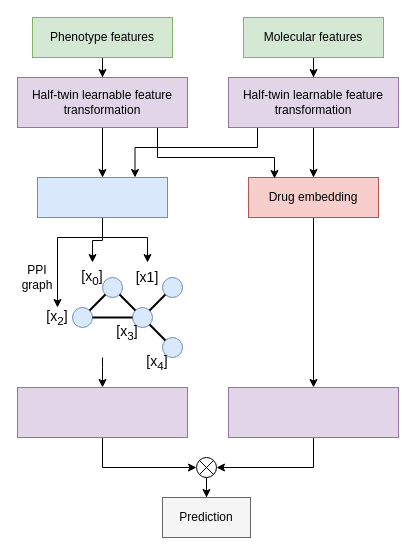
The diagram is 416 pixels wide and 555 high, and some of its shapes have lost their labels. The shapes that lost their labels are listed below. From the top down, each one's centre as x and y in pixels, then its label:
At point (102, 197): "Protein embedding".
At point (102, 412): "Graph convolutional neural network".
At point (313, 412): "Deep neural network".
